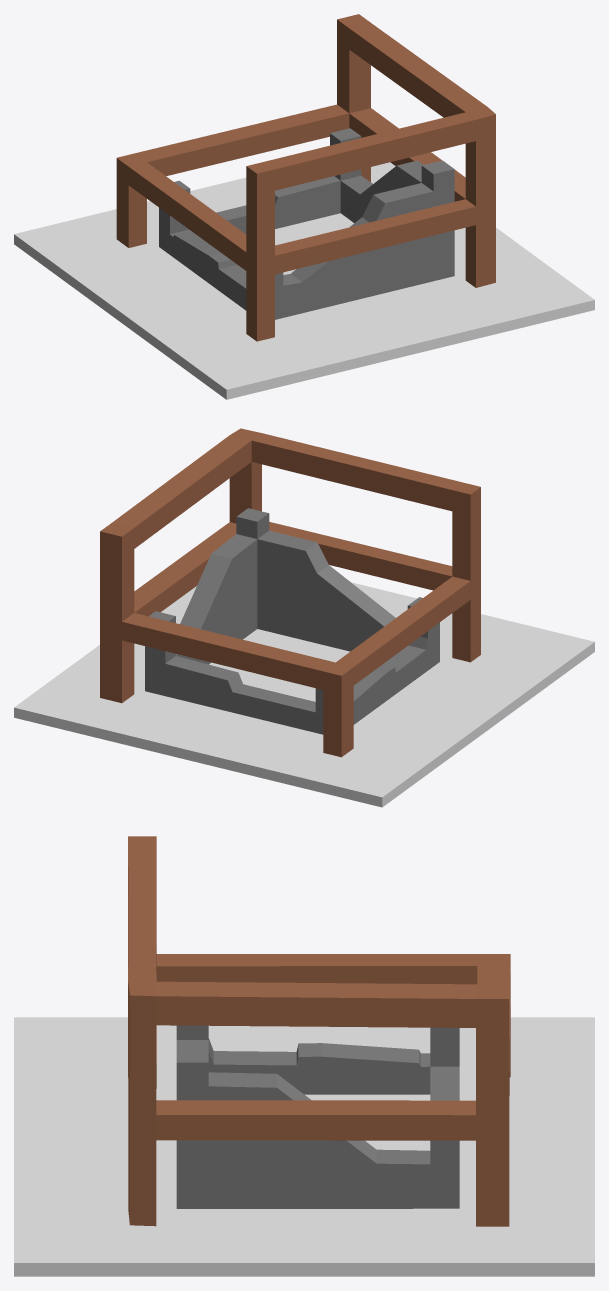
Rendered from Construction Site.fbx.
The picture shows the model from 3 angles, top to bottom: view 1: azimuth 30°, elevation 25°; view 2: azimuth 150°, elevation 25°; view 3: azimuth 270°, elevation 25°; orthographic projection. The views are drawn at different scales.
Visible parts, largest first — view 1: Ground, Scaffolding, Building; view 2: Scaffolding, Ground, Building; view 3: Ground, Scaffolding, Building.
Part boxes in pixels (x1,y1,x2,y2): Ground: (14, 162, 594, 399); Scaffolding: (116, 14, 495, 341); Building: (159, 128, 454, 319); Scaffolding: (100, 428, 480, 757); Ground: (14, 582, 594, 807); Building: (145, 508, 439, 734); Ground: (14, 1017, 594, 1276); Scaffolding: (128, 836, 510, 1226); Building: (176, 1025, 459, 1208).
Size of the model in its own units: 200 by 92.58 by 200.
